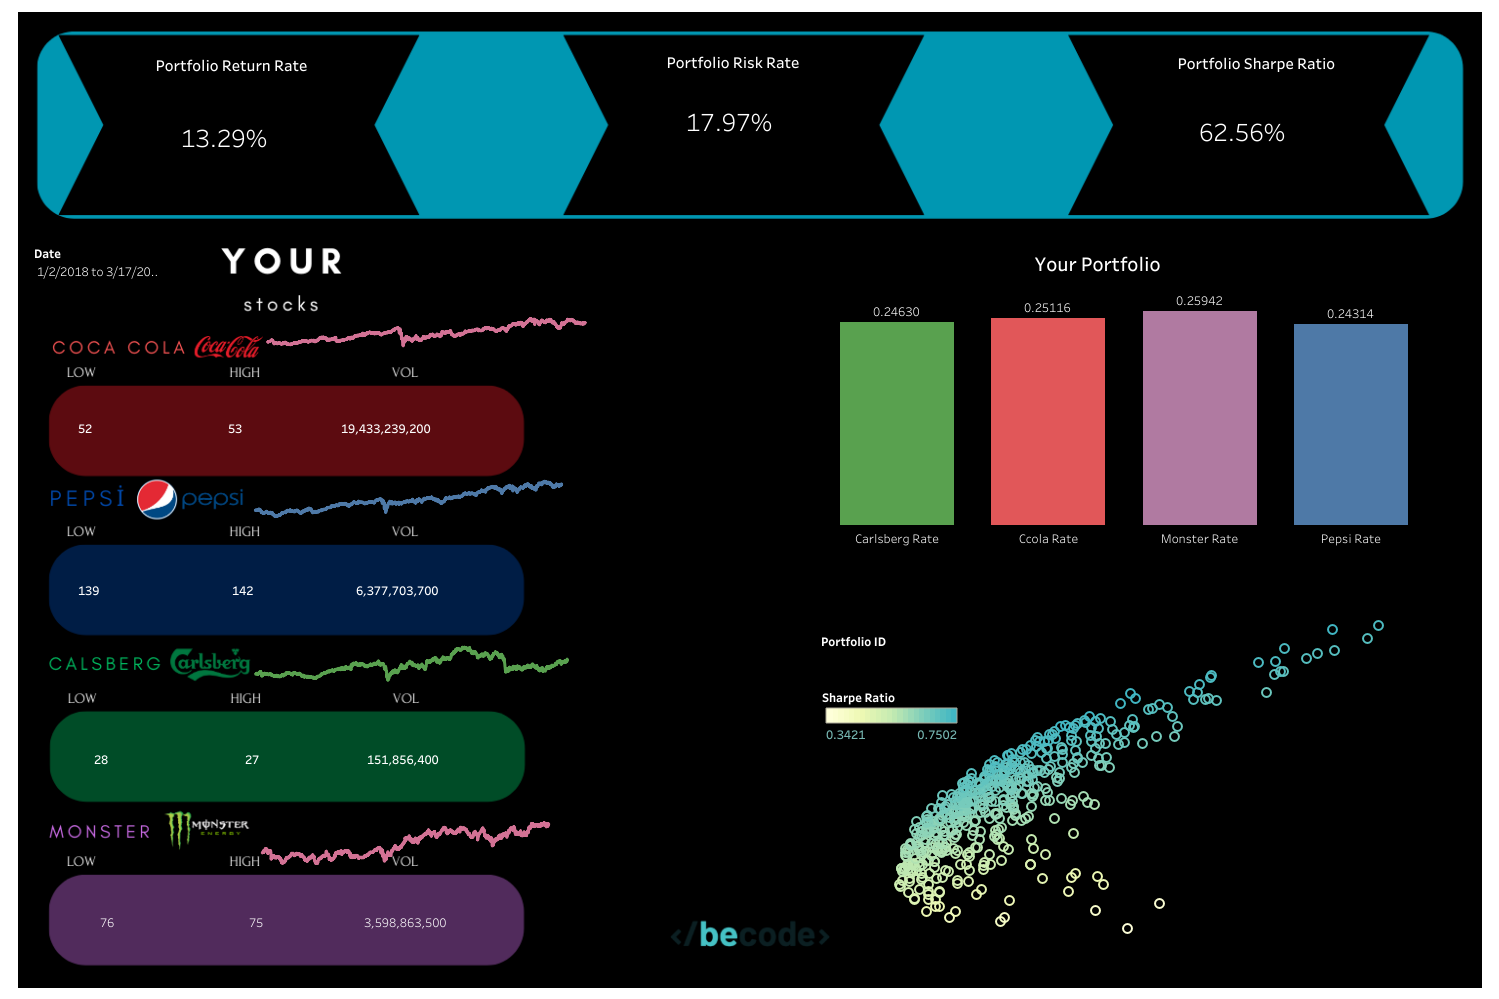

This screenshot's page, from the dashboard's own definition file:
{"tool":"tableau","page":{"name":"Dashboard 1","canvas":[1500,1000],"ordinal":0},"visuals":[{"type":"image","param":"Image/yOUR (1).png","box":[8,8,1484,984]},{"type":"worksheet","title":"Return Rate","mark":"Automatic","box":[21,35,407,205]},{"type":"text","box":[664,47,177,30]},{"type":"text","box":[1175,48,185,30]},{"type":"text","box":[153,50,158,30]},{"type":"worksheet","title":"Risk","mark":"Automatic","box":[677,104,500,329]},{"type":"filter","title":"Coca Cola Stats","param":"[federated.02ox84q0iig2hf1d1bw181kkrxr8].[none:Date:qk]","box":[34,243,126,65]},{"type":"text","box":[1032,248,132,30]},{"type":"worksheet","title":"Rates","mark":"Automatic","box":[821,282,606,283]},{"type":"worksheet","title":"Prices Ccola","mark":"Automatic","rows":["Ccola Adj Close"],"cols":["Date"],"box":[250,314,352,62]},{"type":"worksheet","title":"Coca Cola Stats","mark":"Automatic","box":[10,391,452,75]},{"type":"worksheet","title":"Prices  Pepsi","mark":"Automatic","rows":["PEP Adj Close"],"cols":["Date"],"box":[238,476,340,69]},{"type":"worksheet","title":"Pepsi Stats","mark":"Automatic","box":[12,549,463,83]},{"type":"worksheet","title":"Sharpe Ratio ","mark":"Automatic","rows":["Returns"],"cols":["Risk"],"box":[789,581,690,401]},{"type":"filter","title":"Sharpe Ratio ","param":"[federated.0trvxvc11b6jp512ywaev1diw3gr].[none:F1:ok]","box":[821,631,144,55]},{"type":"worksheet","title":"Prices Calsberg","mark":"Automatic","rows":["CABGY  Adj Close"],"cols":["Date"],"box":[238,642,346,69]},{"type":"legend","title":"Sharpe Ratio ","param":"[federated.0trvxvc11b6jp512ywaev1diw3gr].[avg:Sharpe Ratio:qk]","box":[822,684,140,77]},{"type":"worksheet","title":"Carslberg Stats","mark":"Automatic","box":[26,700,453,118]},{"type":"worksheet","title":"Prices Monster","mark":"Automatic","rows":["MNST Adj Close"],"cols":["Date"],"box":[246,817,318,80]},{"type":"worksheet","title":"Monster Stats","mark":"Automatic","box":[33,879,447,86]}]}

Visuals, with their boxes in screenshot pixels (x1, y1, x2, y2), scaled from the page's 1500x1000 canvas onto the 1499x999 screenshot:
image: region(8, 8, 1491, 991)
"Return Rate" worksheet: region(21, 35, 428, 240)
text: region(664, 47, 840, 77)
text: region(1174, 48, 1359, 78)
text: region(153, 50, 311, 80)
"Risk" worksheet: region(677, 104, 1176, 433)
"Coca Cola Stats" filter: region(34, 243, 160, 308)
text: region(1031, 248, 1163, 278)
"Rates" worksheet: region(820, 282, 1426, 564)
"Prices Ccola" worksheet: region(250, 314, 602, 376)
"Coca Cola Stats" worksheet: region(10, 391, 462, 466)
"Prices  Pepsi" worksheet: region(238, 476, 578, 544)
"Pepsi Stats" worksheet: region(12, 548, 475, 631)
"Sharpe Ratio " worksheet: region(788, 580, 1478, 981)
"Sharpe Ratio " filter: region(820, 630, 964, 685)
"Prices Calsberg" worksheet: region(238, 641, 584, 710)
"Sharpe Ratio " legend: region(821, 683, 961, 760)
"Carslberg Stats" worksheet: region(26, 699, 479, 817)
"Prices Monster" worksheet: region(246, 816, 564, 896)
"Monster Stats" worksheet: region(33, 878, 480, 964)
